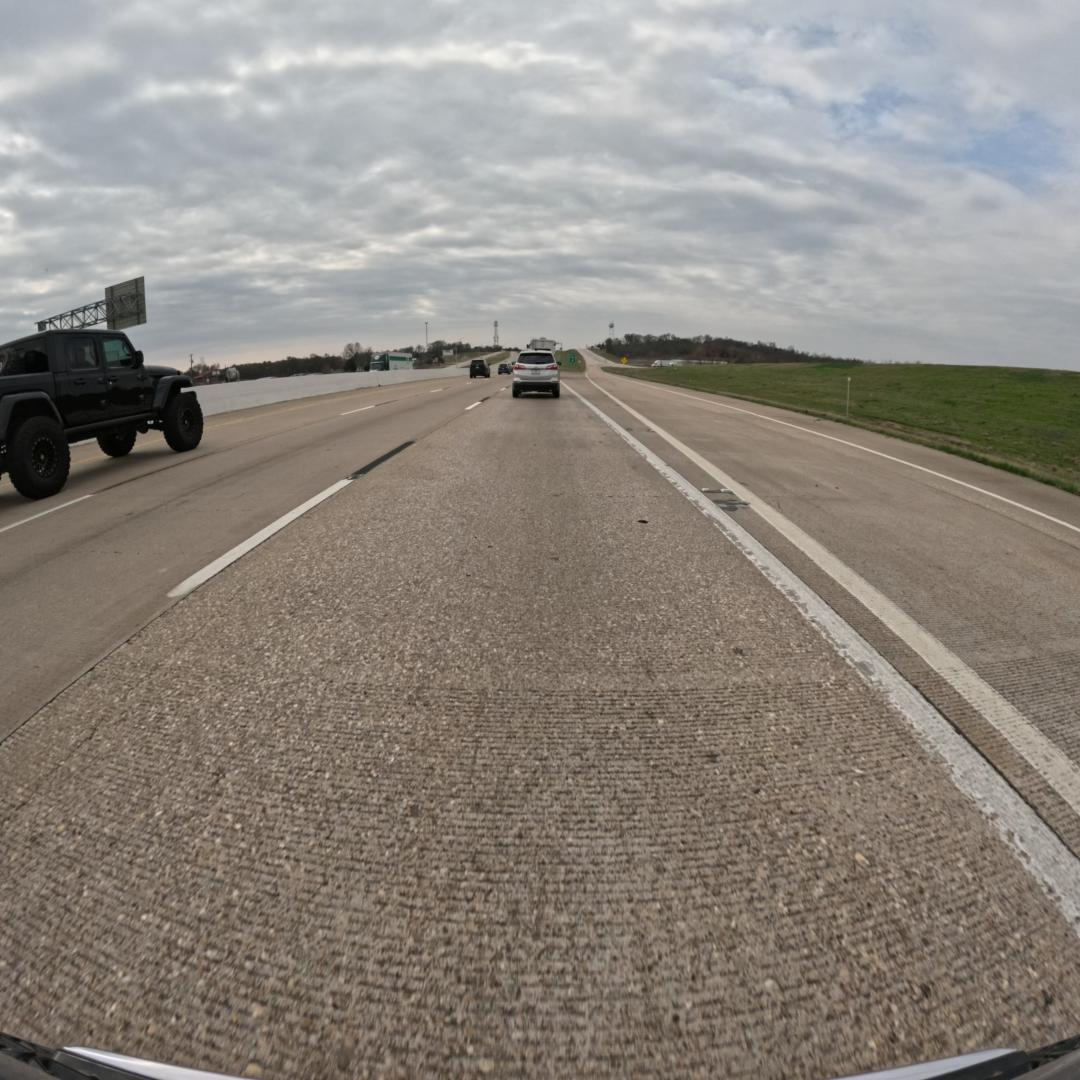lane0: (0, 390, 1080, 1076)
lane1: (0, 382, 504, 741)
